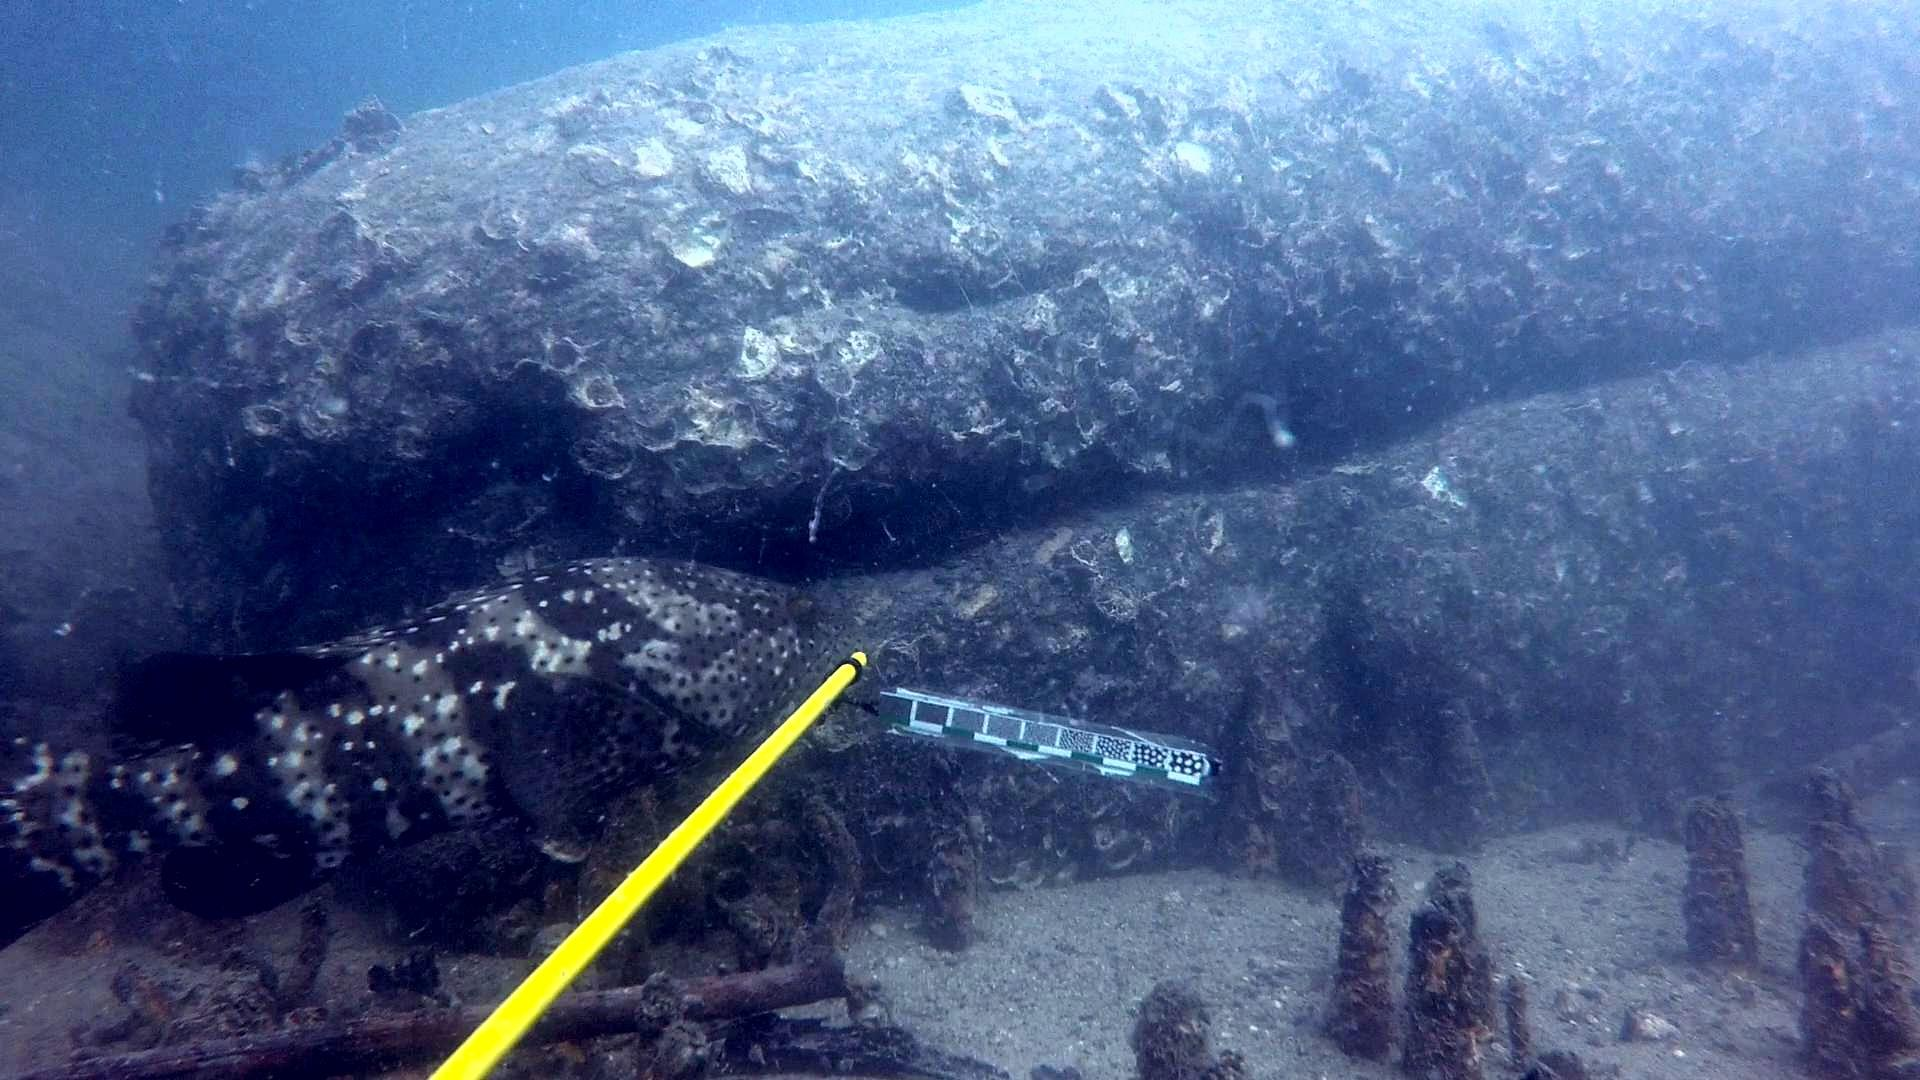epinephelus: (0, 551, 883, 958)
